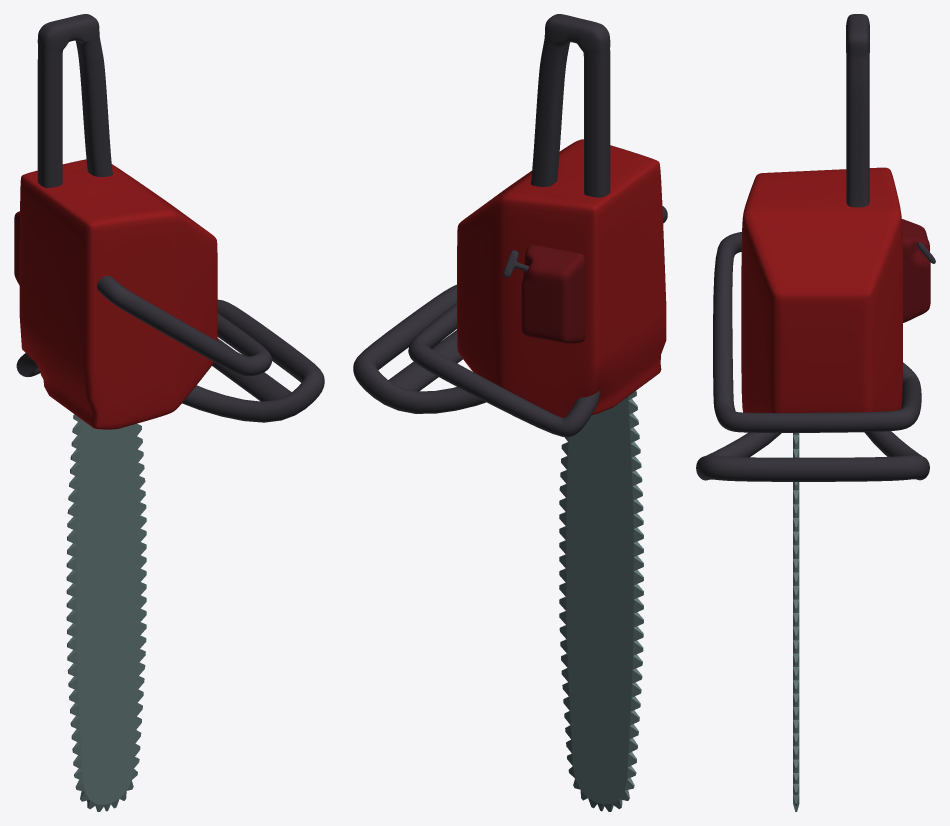
File: ChainsawSolo.glb
3 renders of one model, left to right at view 1: azimuth 30°, elevation 25°; view 2: azimuth 150°, elevation 25°; view 3: azimuth 270°, elevation 25°, orthographic. The views are drawn at different scales.
Parts seen in each view (by area): view 1: Head.003; view 2: Head.003; view 3: Head.003.
Boxes of the visible parts, bbox=[...] form: Head.003: bbox=[14, 14, 324, 811]; Head.003: bbox=[353, 14, 667, 811]; Head.003: bbox=[696, 14, 935, 811].
Size of the model in its own units: 0.9367 by 3.07 by 0.8527.
